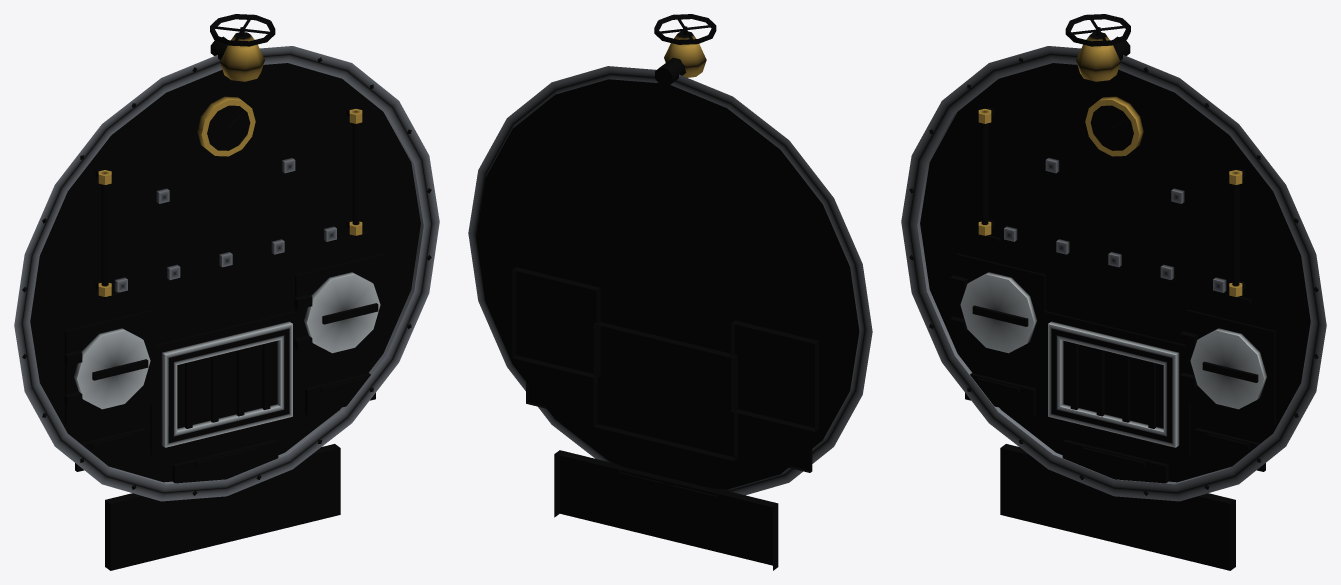
The model's file is boiler_85.glb.
The picture shows the model from 3 angles, left to right: view 1: azimuth 30°, elevation 25°; view 2: azimuth 150°, elevation 25°; view 3: azimuth 330°, elevation 25°; orthographic projection. The views are drawn at different scales.
Visible parts, largest first — view 1: plate, ring, furnace_dark, furnace_steel, brass, glass, dial, stays; view 2: plate, ring, furnace_dark, brass, furnace_steel; view 3: plate, ring, furnace_dark, furnace_steel, brass, glass, dial, stays.
Boxes of the visible parts, left/top/right/bottom form: plate: left=30, top=63, right=420, bottom=482; ring: left=14, top=46, right=439, bottom=570; furnace_dark: left=65, top=114, right=384, bottom=483; furnace_steel: left=64, top=14, right=380, bottom=467; brass: left=95, top=32, right=371, bottom=299; glass: left=101, top=123, right=359, bottom=286; dial: left=207, top=105, right=249, bottom=150; stays: left=114, top=157, right=336, bottom=292; plate: left=476, top=79, right=859, bottom=489; ring: left=468, top=66, right=872, bottom=570; furnace_dark: left=512, top=267, right=818, bottom=496; brass: left=655, top=31, right=706, bottom=86; furnace_steel: left=654, top=14, right=716, bottom=44; plate: left=920, top=63, right=1310, bottom=482; ring: left=901, top=46, right=1326, bottom=570; furnace_dark: left=956, top=119, right=1275, bottom=483; furnace_steel: left=950, top=14, right=1267, bottom=467; brass: left=978, top=32, right=1251, bottom=303; glass: left=981, top=123, right=1239, bottom=286; dial: left=1091, top=105, right=1133, bottom=150; stays: left=1004, top=157, right=1226, bottom=292.
Size of the model in its own units: 1.73 by 2.05 by 0.2703.
